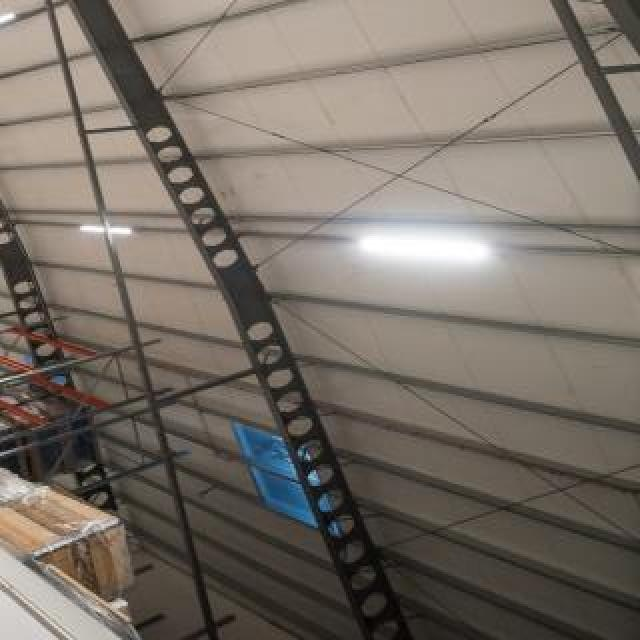fluorescent tube: (340, 227, 511, 271), (51, 206, 147, 249), (0, 0, 54, 44)
